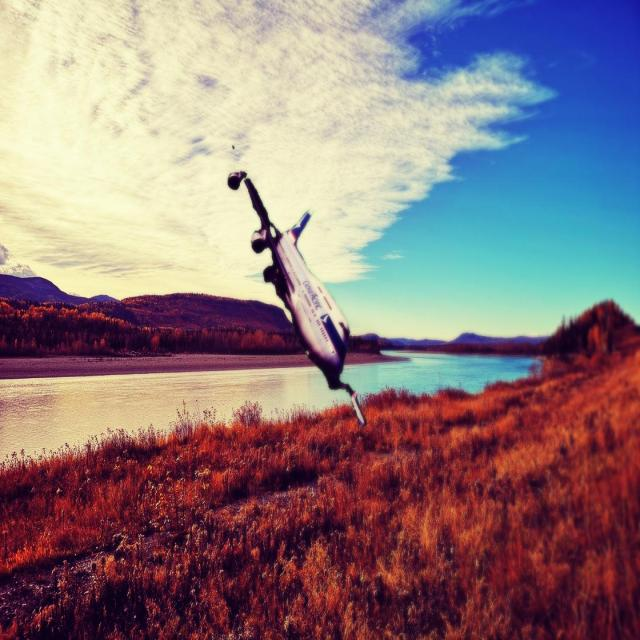airplane: (227, 170, 368, 428)
